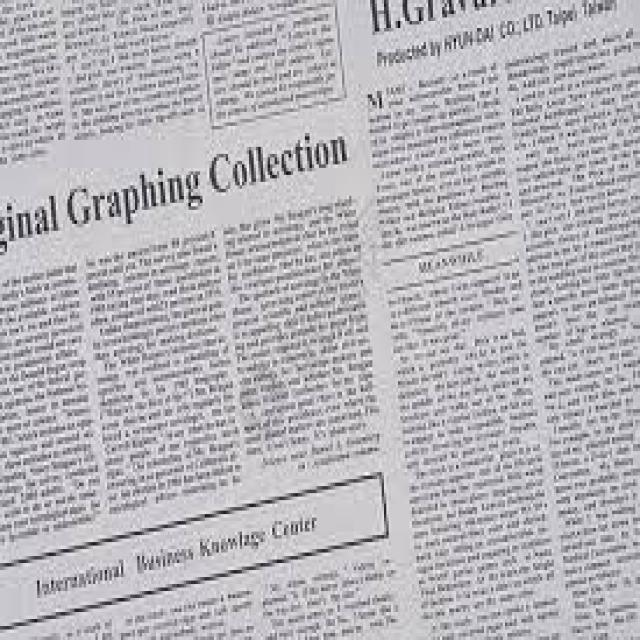paper: (0, 0, 638, 633)
